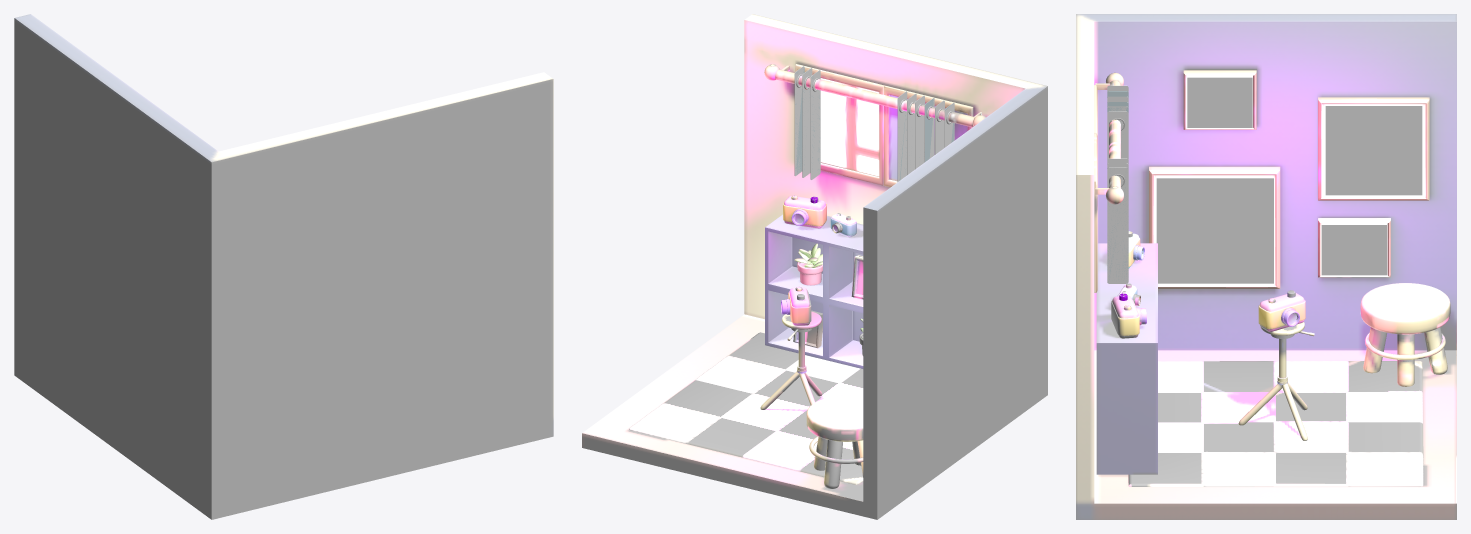
File: room_photo_with_frame.gltf
3 views of the same model, side by side, from view 1: azimuth 30°, elevation 25°; view 2: azimuth 150°, elevation 25°; view 3: azimuth 270°, elevation 25° (orthographic). The views are drawn at different scales.
Visible parts, largest first — view 1: room'.1; view 2: room'.1, Cube, Torus.1, Cube.1 (×3), Cylinder.3, Cube.14, frame, Cube.11, Cube.12, plants1.1, Cube.9, Cube.7 (+2 smaller); view 3: room'.1, Cube, Cube.1 (×4), ii, frame, ii.1, Torus.1, ii.3, ii.2, Cube.11, Cylinder.3, Cube.9.
Part boxes in pixels (x1,y1,x2,y2): room'.1: (14, 14, 553, 519); room'.1: (582, 14, 1047, 519); Cube: (629, 332, 863, 484); Torus.1: (764, 64, 986, 488); Cube.1 (×3): (765, 195, 863, 368); Cylinder.3: (760, 311, 822, 409); Cube.14: (810, 70, 820, 179); frame: (793, 255, 863, 348); Cube.11: (794, 66, 804, 176); Cube.12: (802, 68, 812, 177); plants1.1: (794, 243, 822, 285); Cube.9: (897, 91, 907, 181); Cube.7: (915, 95, 924, 169); room'.1: (1076, 14, 1456, 519); Cube: (1128, 361, 1423, 486); Cube.1 (×4): (1096, 243, 1305, 474); ii: (1156, 178, 1273, 283); frame: (1149, 70, 1429, 288); ii.1: (1325, 106, 1422, 195); Torus.1: (1094, 72, 1450, 386); ii.3: (1187, 77, 1252, 127); ii.2: (1321, 225, 1386, 275); Cube.11: (1107, 167, 1128, 283); Cylinder.3: (1238, 322, 1314, 440); Cube.9: (1107, 111, 1128, 159).
Size of the model in its own units: 10.5 by 10.5 by 10.5.
